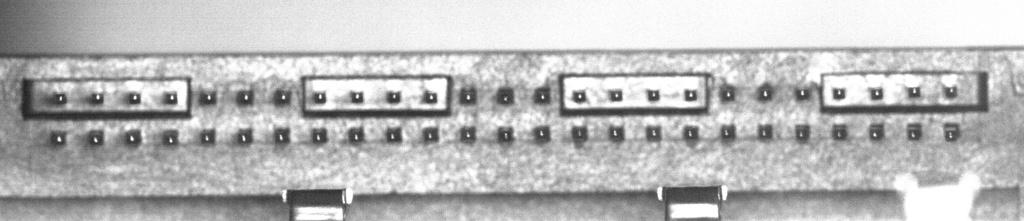pin_ok: (458, 86, 477, 104), (943, 122, 961, 141), (496, 86, 515, 104), (199, 88, 217, 105), (533, 86, 551, 103), (236, 88, 254, 105), (831, 123, 848, 140), (533, 125, 550, 142), (274, 88, 291, 105), (347, 126, 364, 143), (906, 123, 923, 140), (868, 123, 885, 140), (571, 124, 588, 141), (756, 84, 773, 101), (645, 124, 661, 141), (162, 129, 179, 145), (311, 127, 328, 143), (385, 126, 402, 142), (459, 126, 476, 142), (199, 128, 216, 144), (497, 126, 514, 142), (422, 126, 439, 142), (608, 125, 625, 141), (50, 130, 67, 146), (720, 85, 736, 101), (720, 124, 736, 140), (273, 127, 289, 143), (236, 128, 252, 144), (795, 124, 810, 141), (87, 130, 104, 145), (757, 124, 773, 139), (683, 125, 699, 140), (795, 86, 811, 101), (125, 129, 141, 144), (423, 89, 438, 104), (571, 89, 587, 103), (830, 86, 846, 100), (943, 84, 958, 98), (163, 91, 178, 105), (386, 90, 402, 103), (312, 90, 326, 104), (646, 88, 660, 102), (608, 88, 623, 101), (349, 90, 364, 103), (869, 87, 884, 100), (90, 91, 104, 104), (127, 91, 141, 104), (907, 85, 921, 98), (684, 88, 698, 101), (53, 92, 67, 104)
